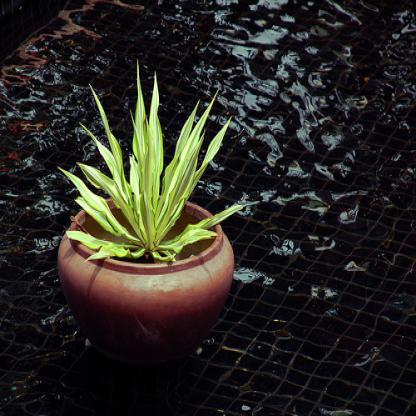pottedplant: (48, 54, 265, 364)
